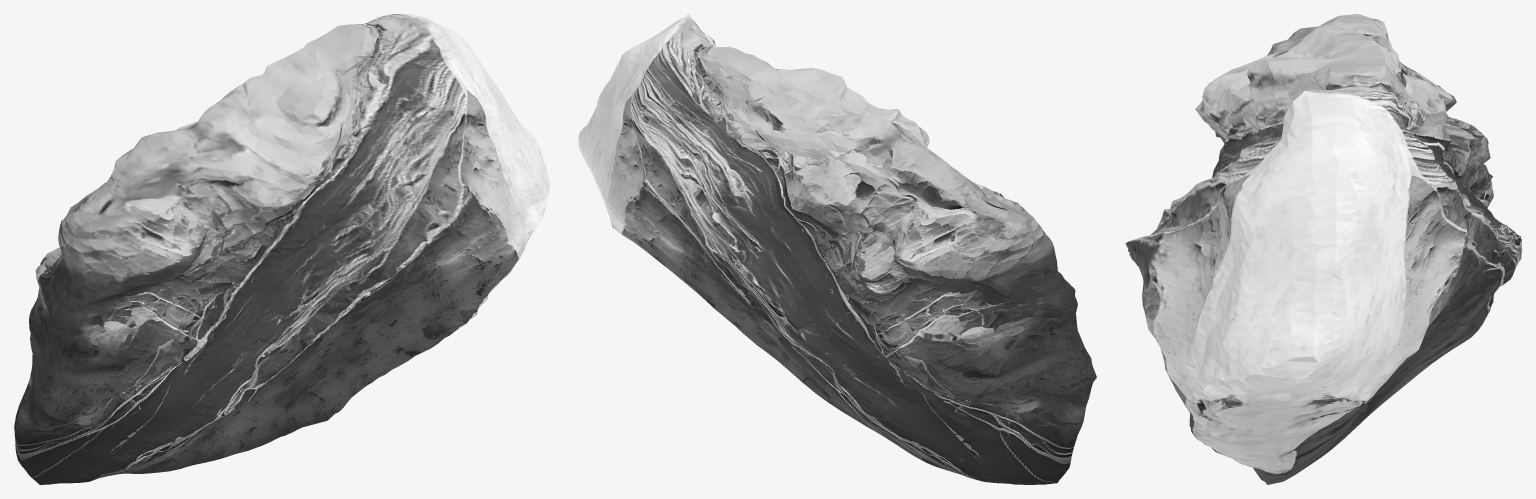
The picture shows the model from 3 angles, left to right: view 1: azimuth 30°, elevation 25°; view 2: azimuth 150°, elevation 25°; view 3: azimuth 270°, elevation 25°; orthographic projection. The views are drawn at different scales.
Parts seen in each view (by area): view 1: StoneD; view 2: StoneD; view 3: StoneD.
Part boxes in pixels (left/top/right/bottom): StoneD: left=14, top=14, right=549, bottom=484; StoneD: left=578, top=14, right=1096, bottom=484; StoneD: left=1125, top=14, right=1521, bottom=484.
Size of the model in its own units: 0.8459 by 0.5985 by 0.4333.
1 material, 1 textured.
